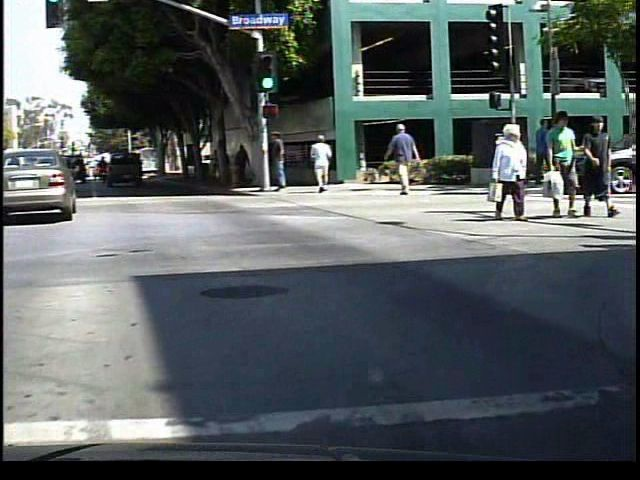person: (491, 122, 543, 224), (584, 112, 622, 218), (549, 110, 585, 221), (389, 123, 428, 196), (535, 113, 562, 188), (275, 127, 301, 200), (313, 133, 340, 196), (238, 140, 259, 190), (224, 146, 239, 189)
